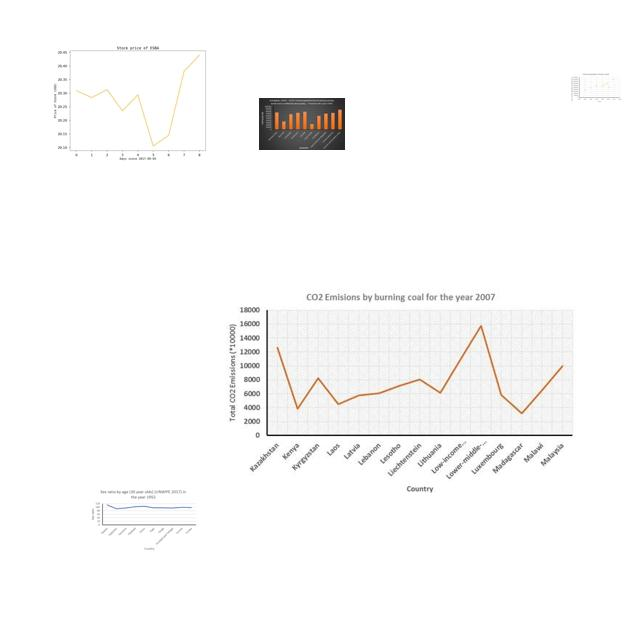Graph: (226, 289, 578, 495), (41, 35, 230, 165), (89, 488, 198, 552), (259, 98, 345, 150), (570, 73, 622, 103)
